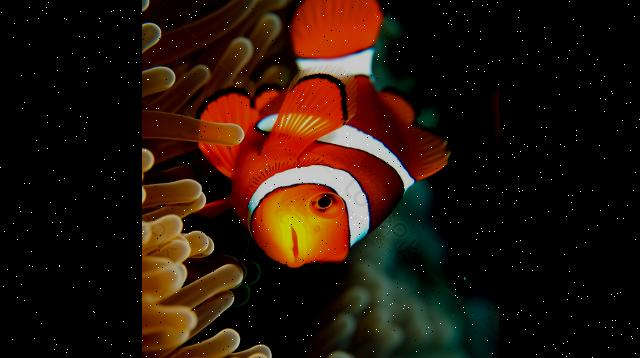Mulut: (272, 213, 312, 279)
Sirip Dada: (255, 54, 365, 166)
Sirip Ekor: (272, 0, 409, 65)
Sirip Perut: (182, 72, 262, 232)
Sirip Punggung: (376, 70, 466, 194)
